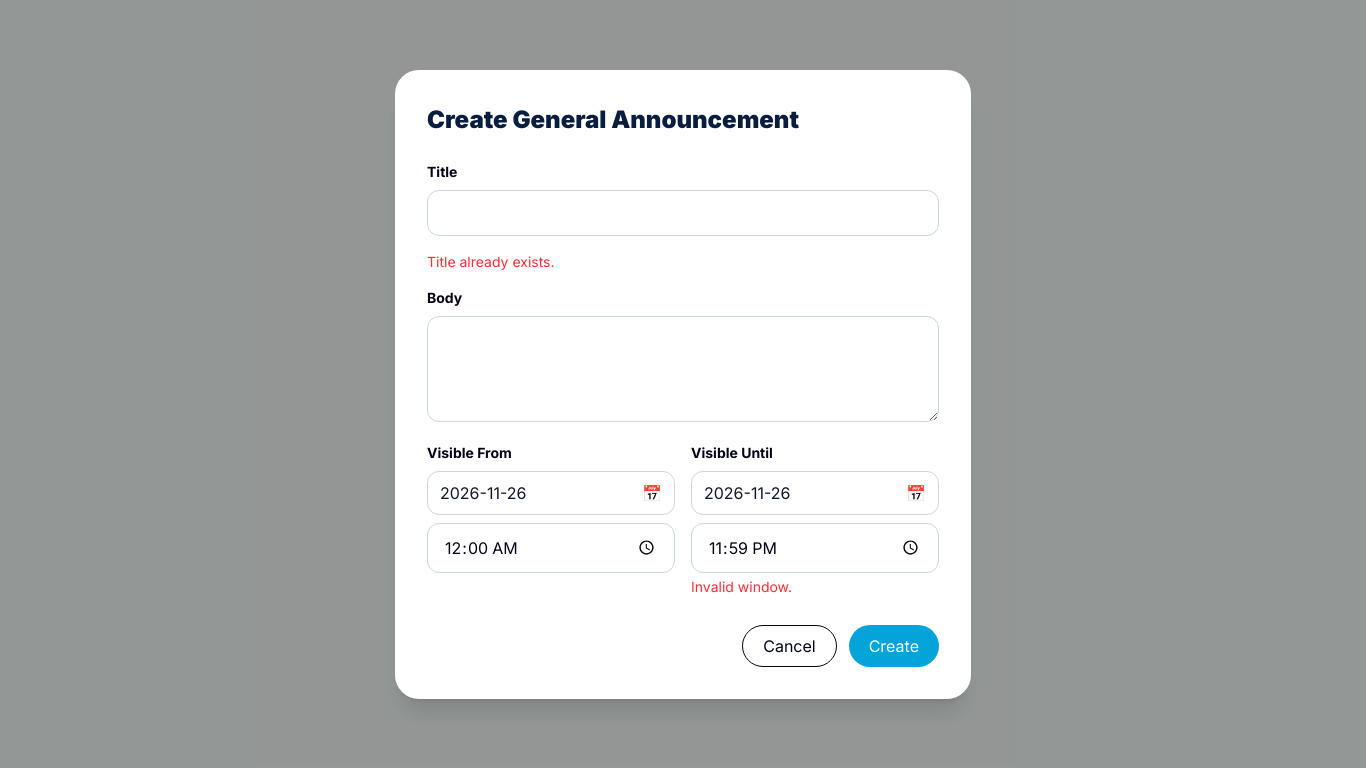
Test: AnnouncementFormModal › maps backend field errors and clears them when edited
Check: the text "Title already exists." is shown, box [427, 252, 554, 270]
Type "New title" into the field labelled "Title". click: coordinates (683, 212)
box: [427, 190, 939, 236]
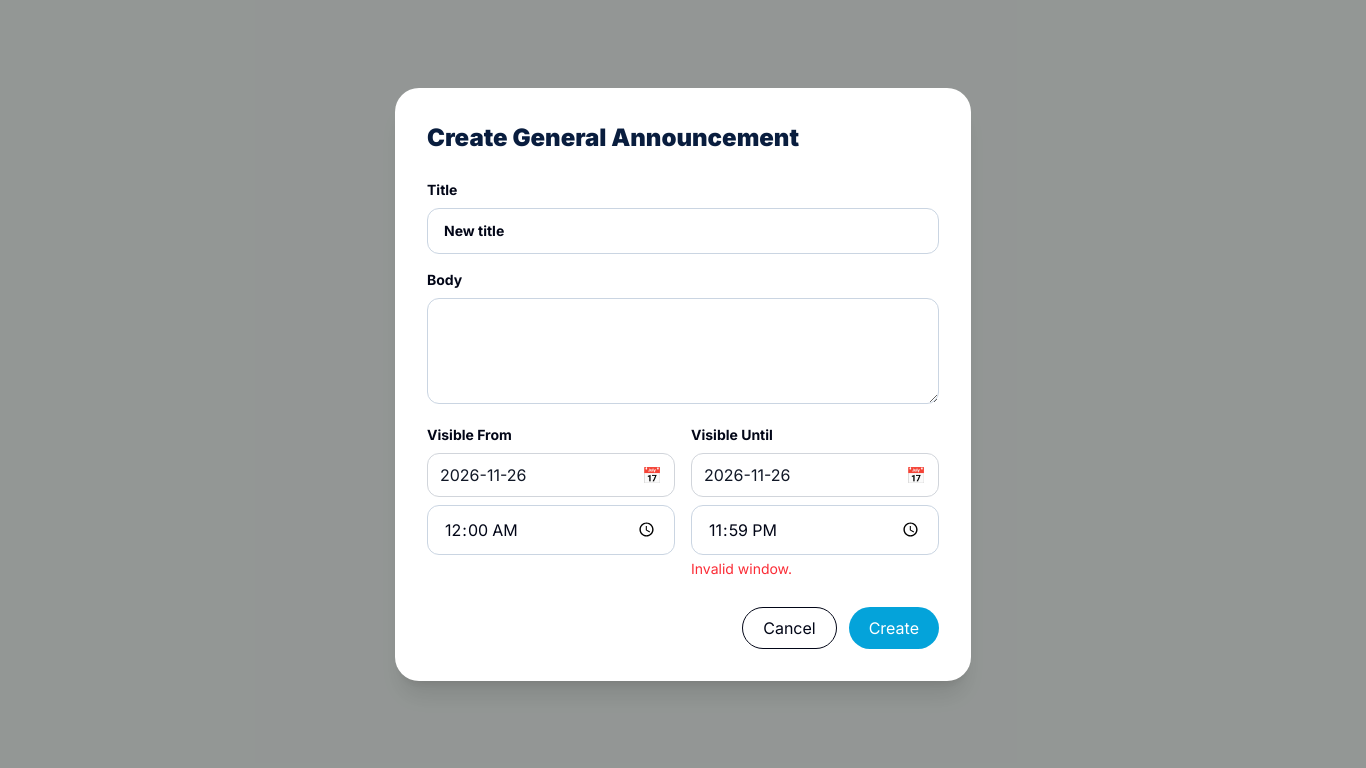
Check: the text "Invalid window." is shown, box [691, 560, 792, 576]
Check: the text "Title already exists." is gone
